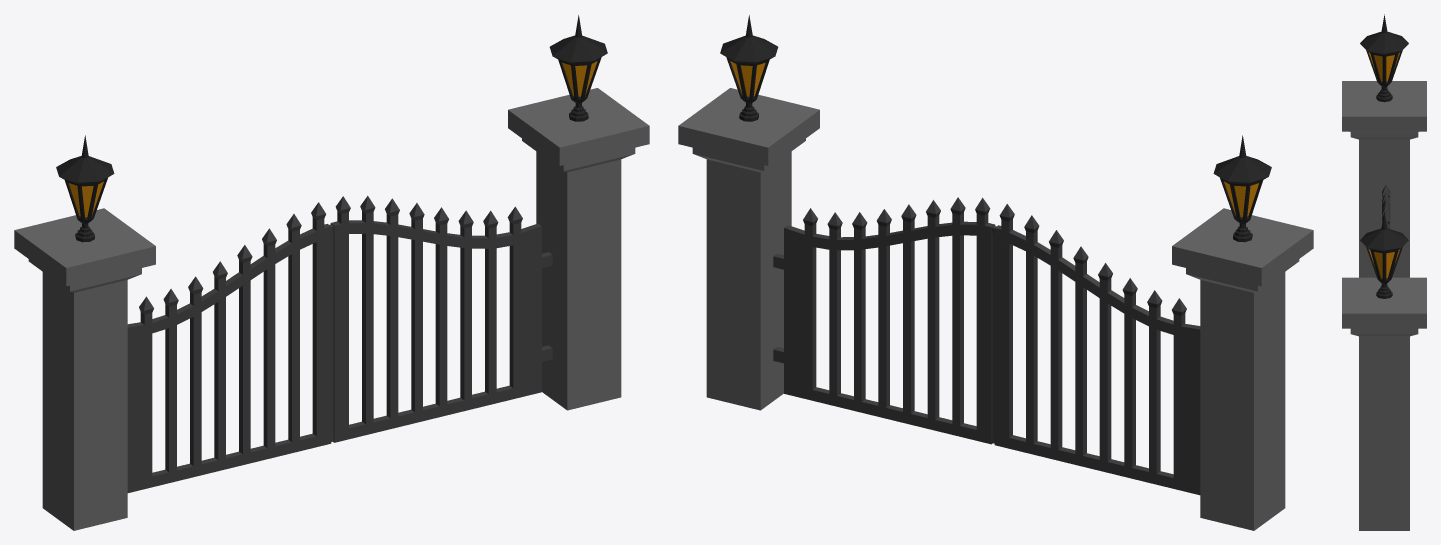
The model's file is PortonParaUnity.fbx.
The picture shows the model from 3 angles, left to right: view 1: azimuth 30°, elevation 25°; view 2: azimuth 150°, elevation 25°; view 3: azimuth 270°, elevation 25°; orthographic projection. The views are drawn at different scales.
Parts seen in each view (by area): view 1: rejas, columnas, luces; view 2: rejas, columnas, luces; view 3: columnas, luces, rejas.
Boxes of the visible parts, left/top/right/bottom form: rejas: left=127, top=195, right=552, bottom=492; columnas: left=14, top=88, right=649, bottom=530; luces: left=56, top=15, right=607, bottom=242; rejas: left=773, top=197, right=1200, bottom=495; columnas: left=678, top=88, right=1313, bottom=530; luces: left=720, top=15, right=1271, bottom=242; columnas: left=1342, top=81, right=1426, bottom=530; luces: left=1360, top=14, right=1408, bottom=298; rejas: left=1382, top=184, right=1390, bottom=228.
Bounding box in the file's own units: 561 × 348 × 86.33.
Materials: 1 (1 with a texture image).
